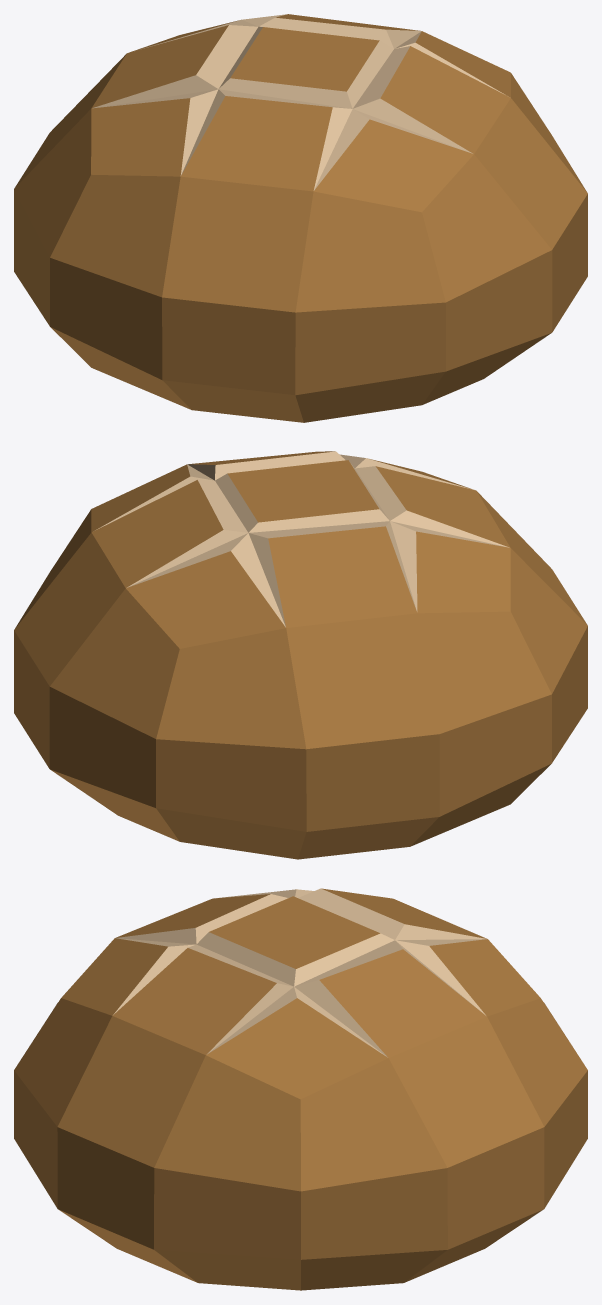
The model's file is food-bread-round.glb.
The picture shows the model from 3 angles, top to bottom: view 1: azimuth 30°, elevation 25°; view 2: azimuth 150°, elevation 25°; view 3: azimuth 270°, elevation 25°; orthographic projection.
Visible parts, largest first — view 1: bread-round; view 2: bread-round; view 3: bread-round.
Part boxes in pixels (box(x1,y1,x2,y2)): bread-round: box(14, 14, 587, 422); bread-round: box(14, 451, 587, 859); bread-round: box(14, 888, 587, 1290).
Bounding box in the file's own units: 0.2731 × 0.153 × 0.2731.
